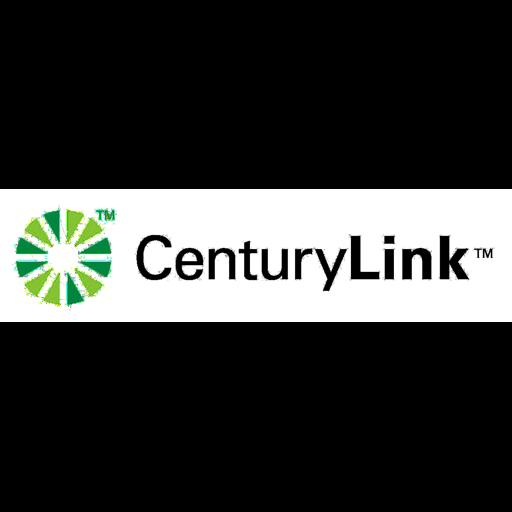CenturyLink: (0, 189, 512, 322)
